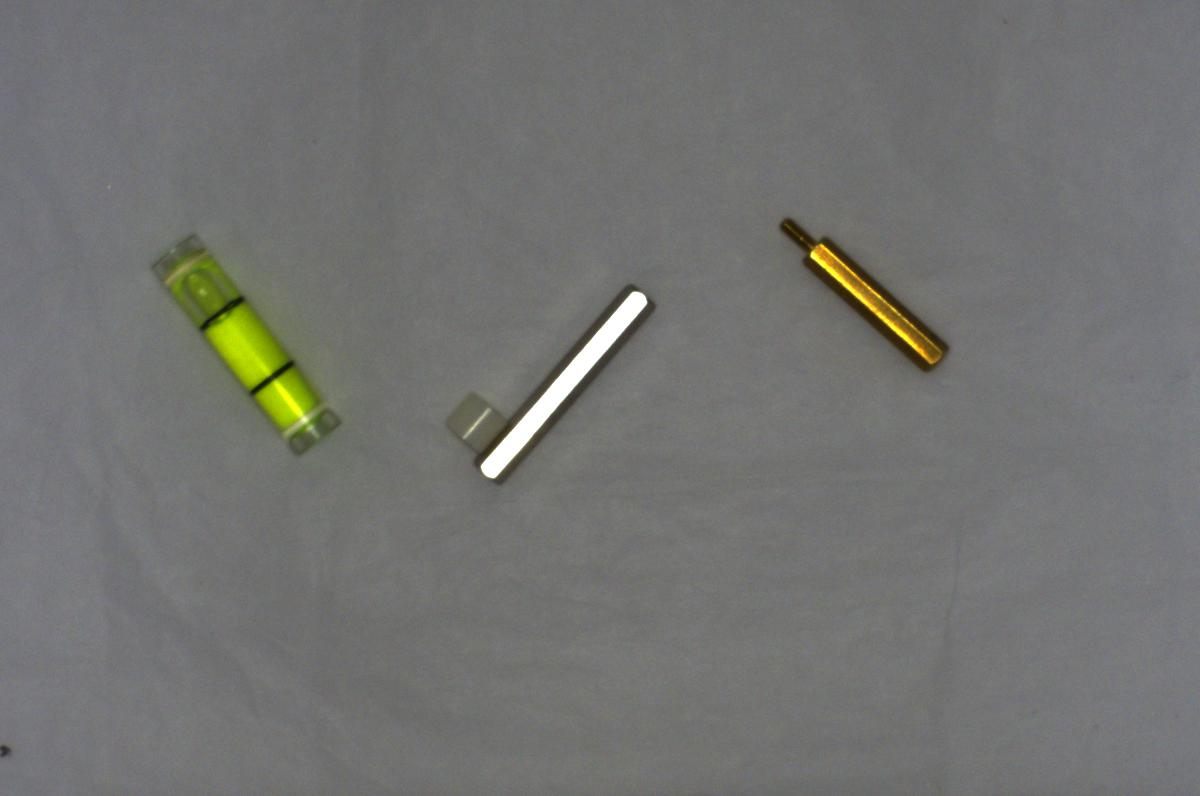Double hexagonal column: (474, 270, 657, 488)
Hexagon pillar: (773, 213, 973, 385)
Horizontal bubble: (148, 227, 337, 455)
Plastic cushion pillar: (441, 385, 507, 458)
